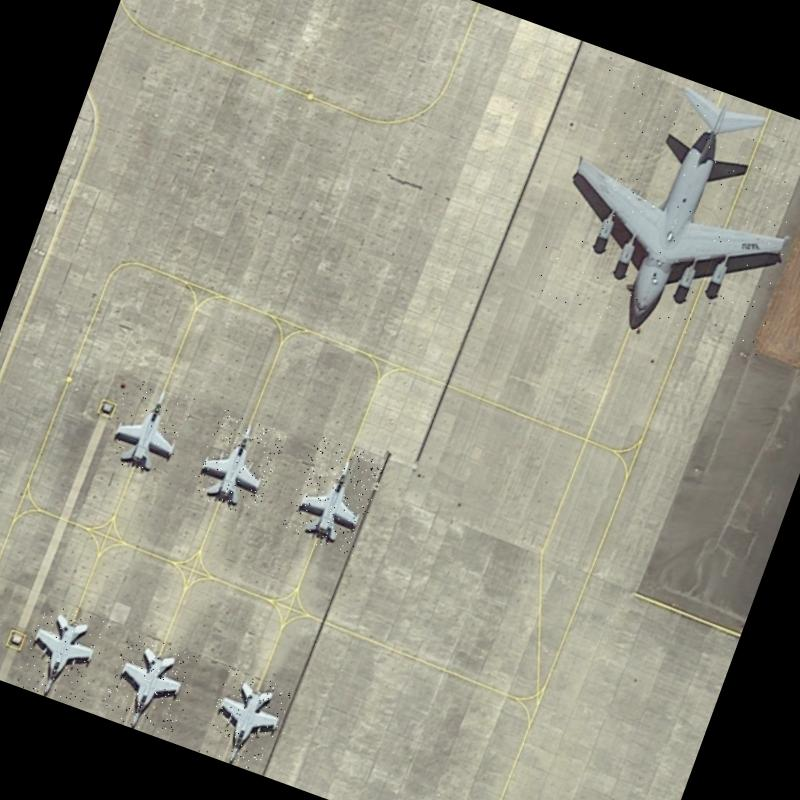A16: (280, 433, 387, 558), (98, 370, 200, 484), (98, 631, 202, 742), (188, 407, 288, 520), (14, 599, 110, 708), (198, 664, 293, 774)
A3: (525, 51, 800, 372)
